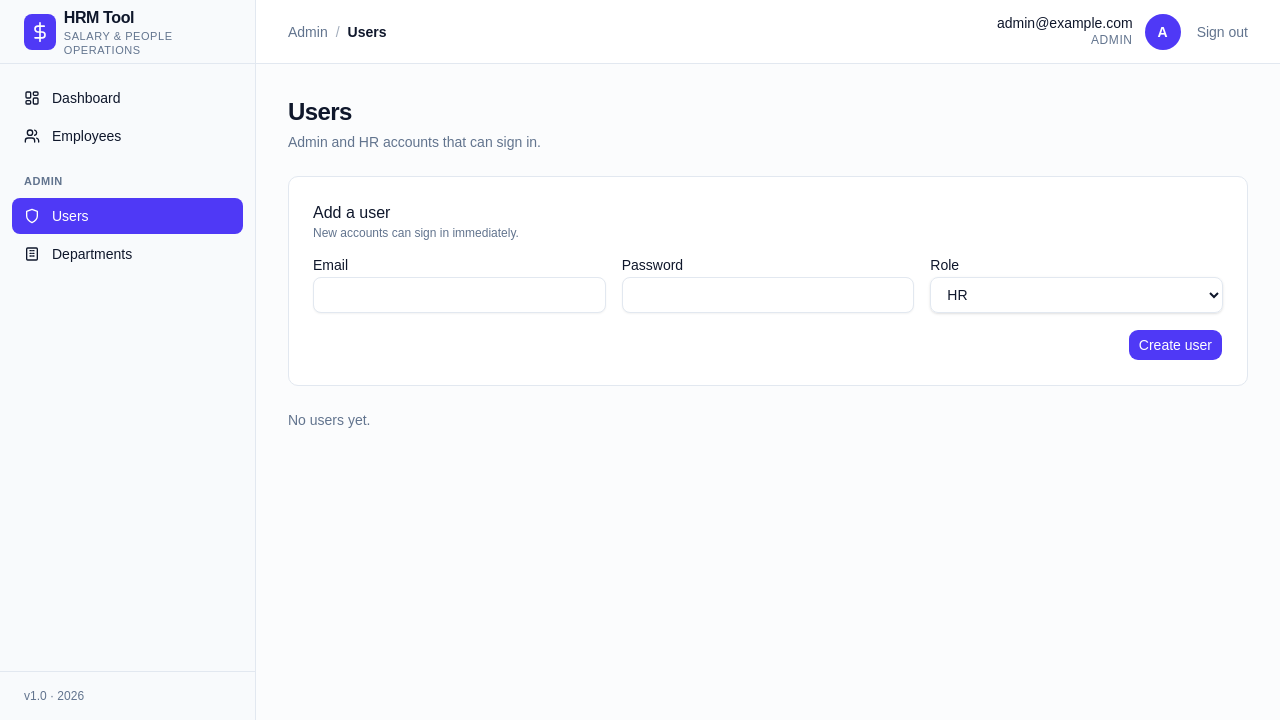
Scenario: UsersPage › surfaces the server error when create fails
The width and height of the screenshot is (1280, 720).
Expected: the text "No users yet." is shown, [288,412,370,428]
Type "dup@example.com" into the field labelled "Email".
click(459, 295); type("dup@example.com")  # box [313,277,606,313]
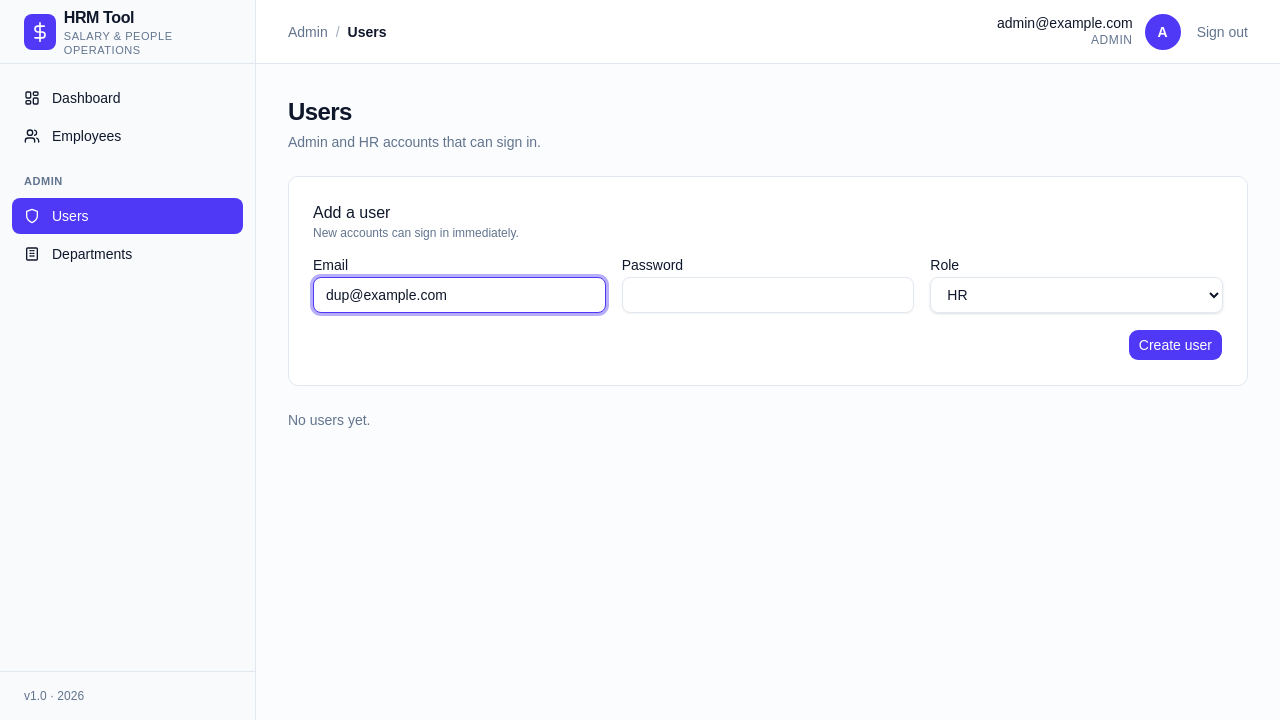
Type "secret123" into the password field labelled "Password".
click(768, 295); type("secret123")  # box [622,277,914,313]
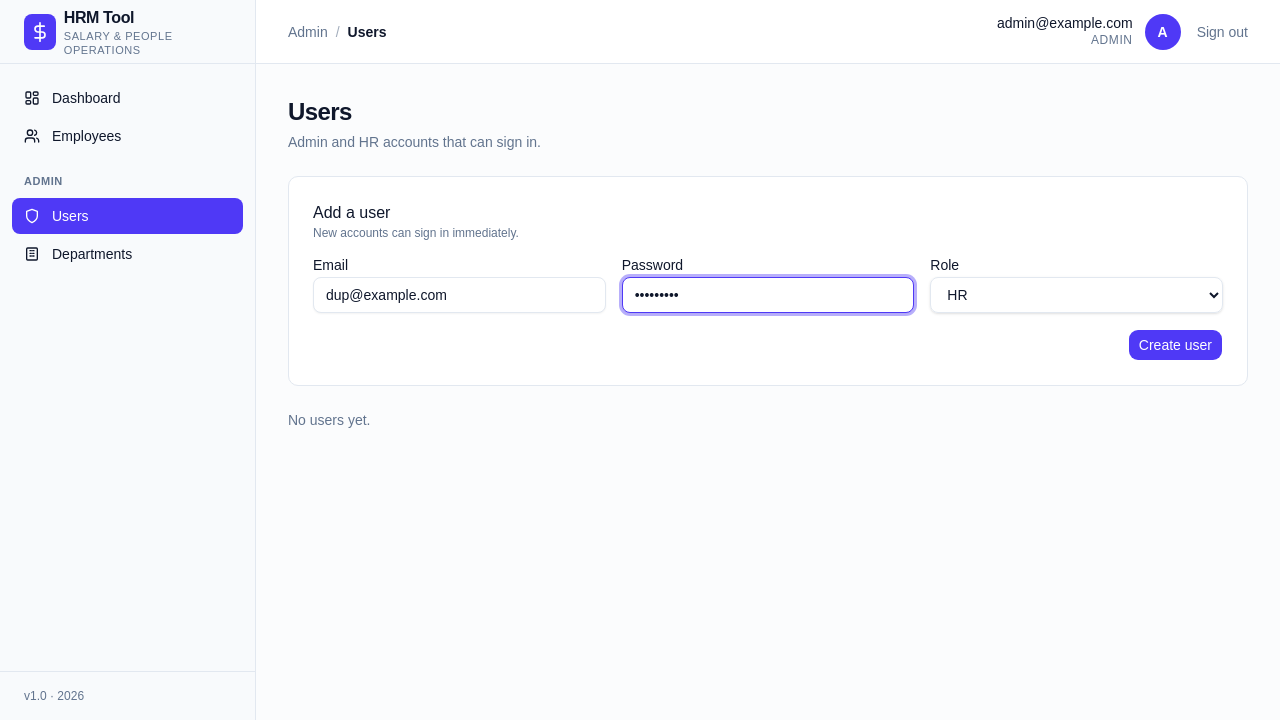
Click the button "Create user".
click(1175, 345)  # box [1128,329,1223,361]
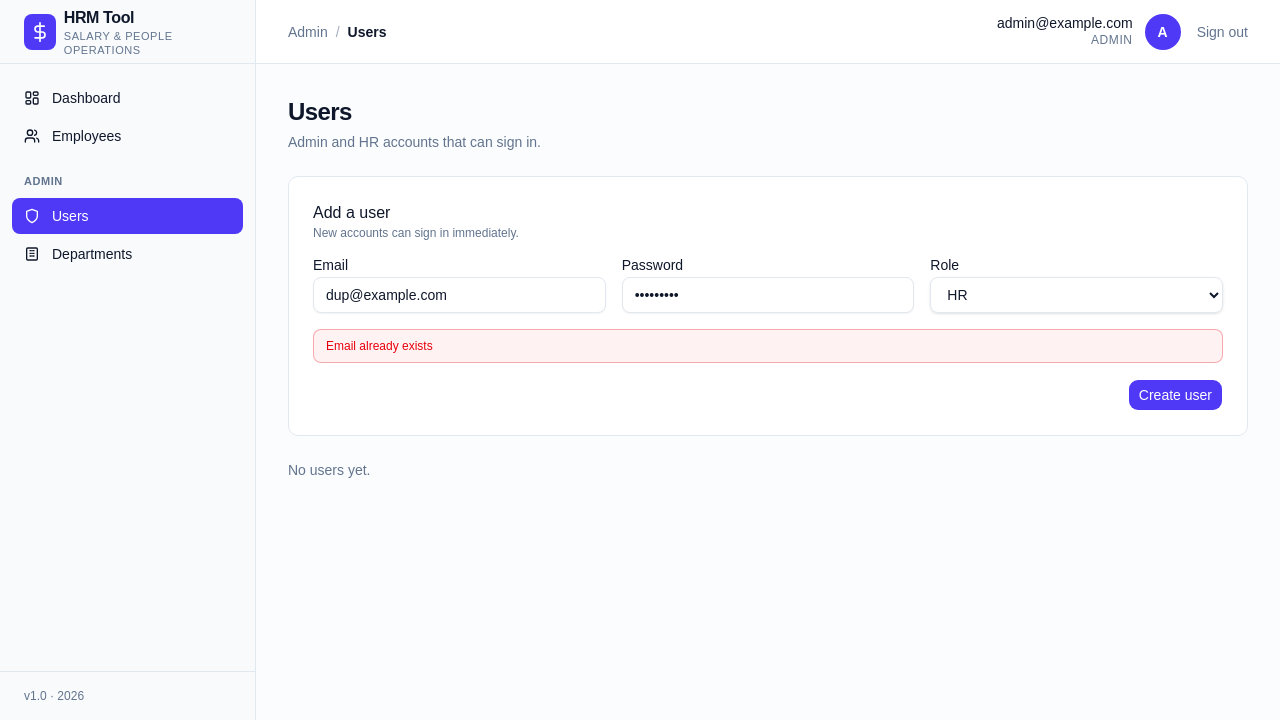
Expected: the text "Email already exists" is shown, [313,329,1223,363]
